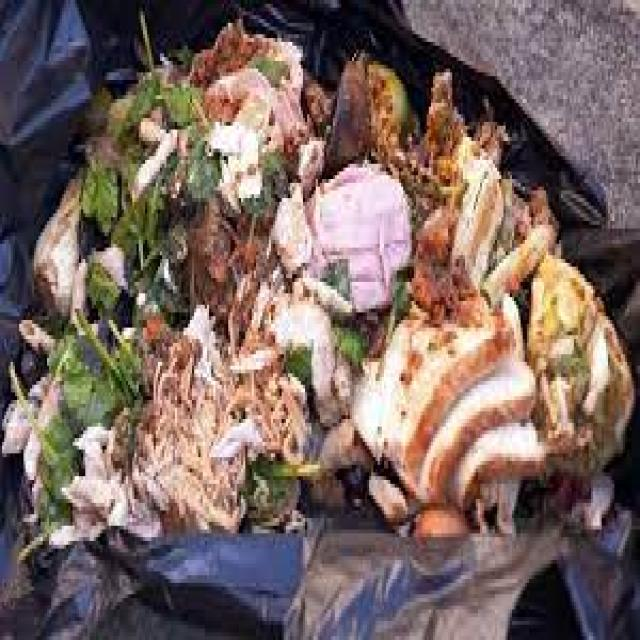Organik: (0, 27, 640, 570), (346, 250, 558, 570), (14, 100, 169, 392), (291, 112, 420, 341)
